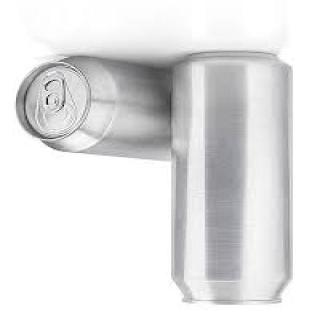Anorganik: (172, 45, 296, 313), (8, 52, 184, 166)
